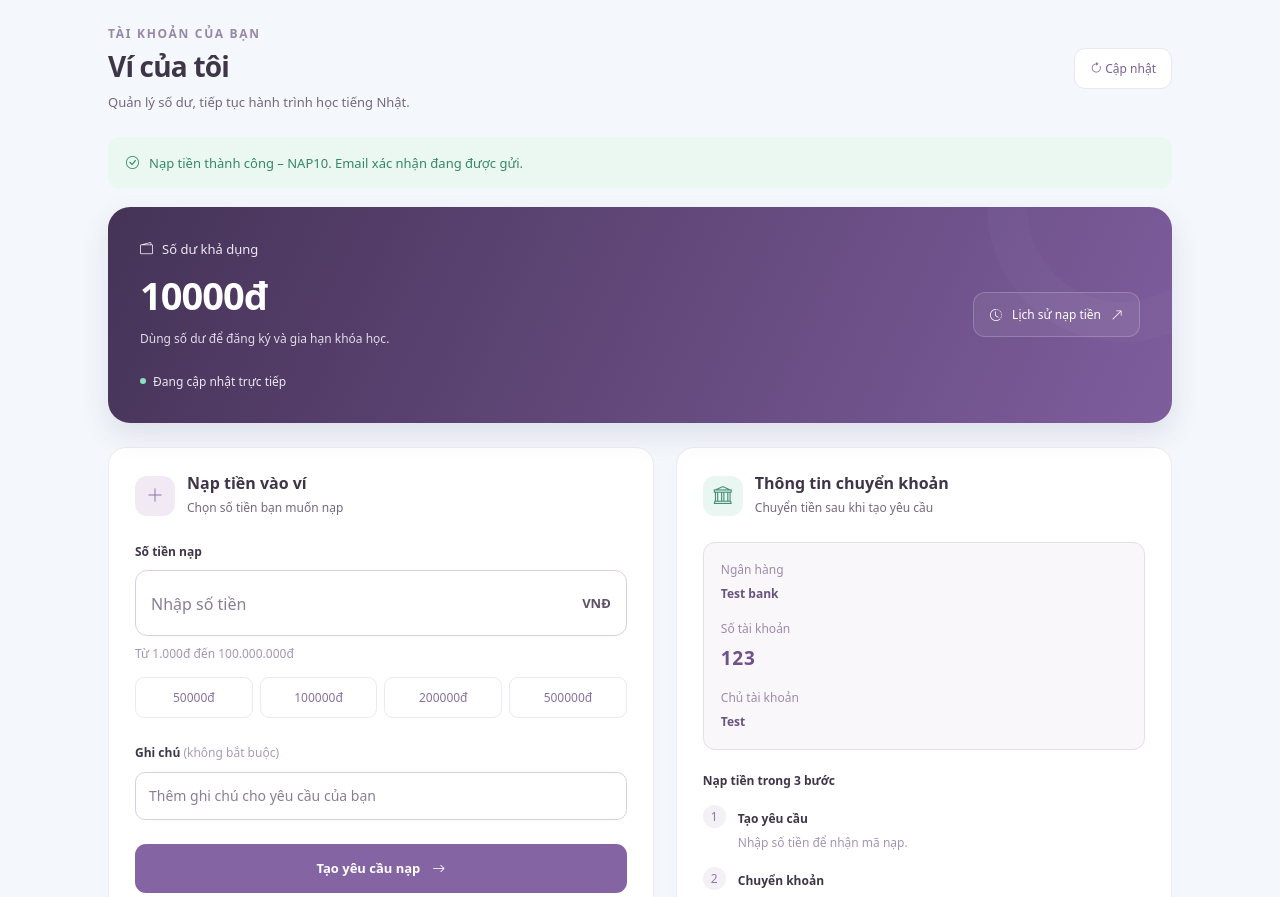
it: wallet realtime outcomes › refreshes the authoritative state after APPROVED
Click the button with class "history-toggle": (1057,315) [973,292,1140,337]
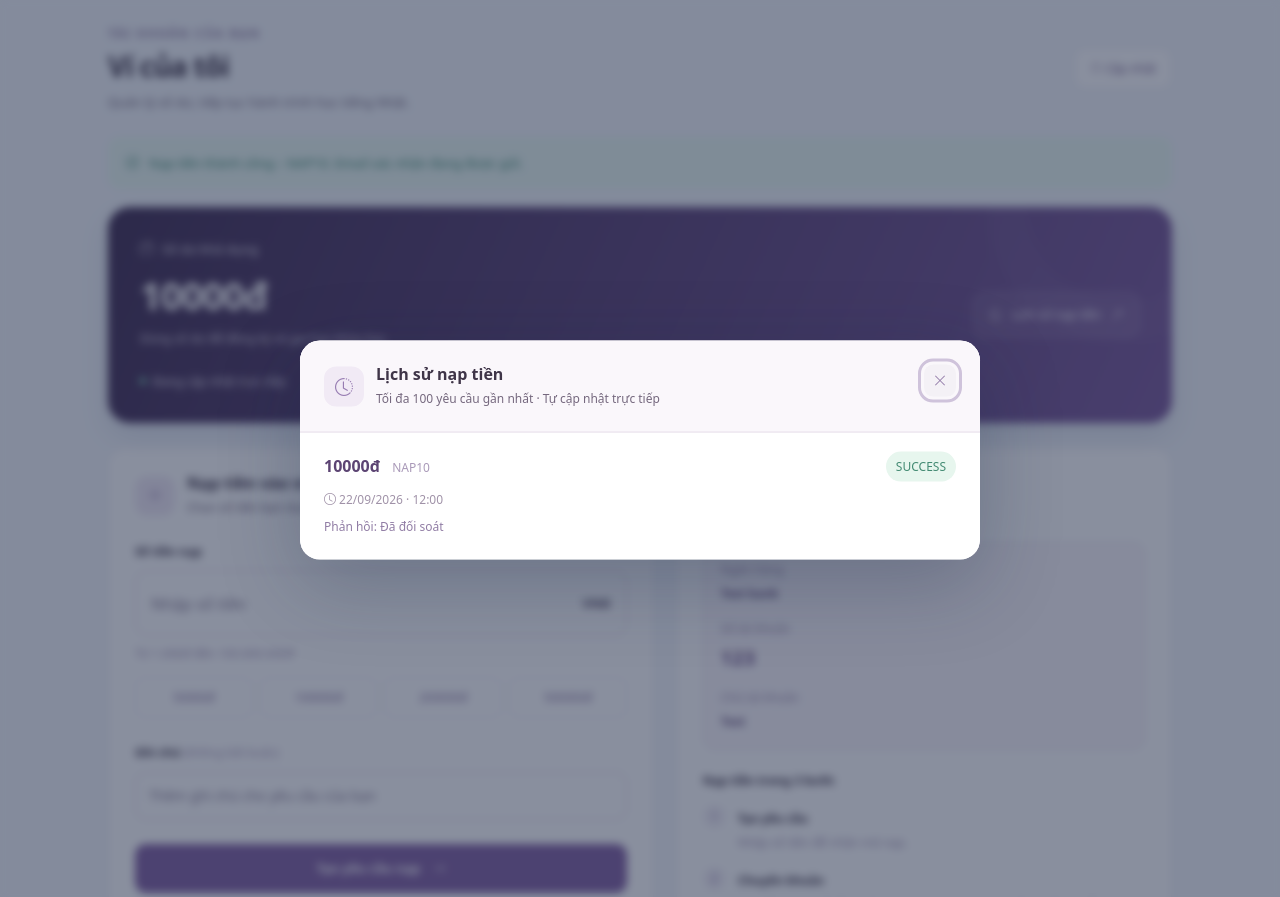
Expected: the text "10000đ" is shown, [140,270,267,322]
Result: the text "Đã đối soát" is shown at [324,517,444,534]
